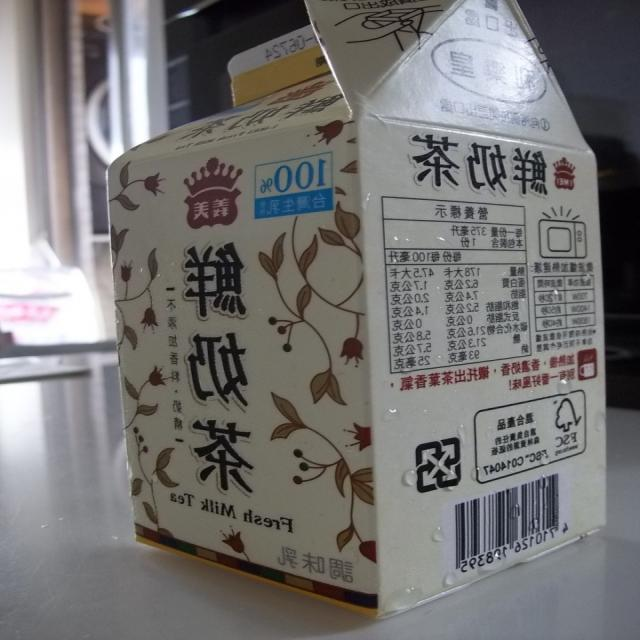cardboard: (108, 0, 603, 617)
